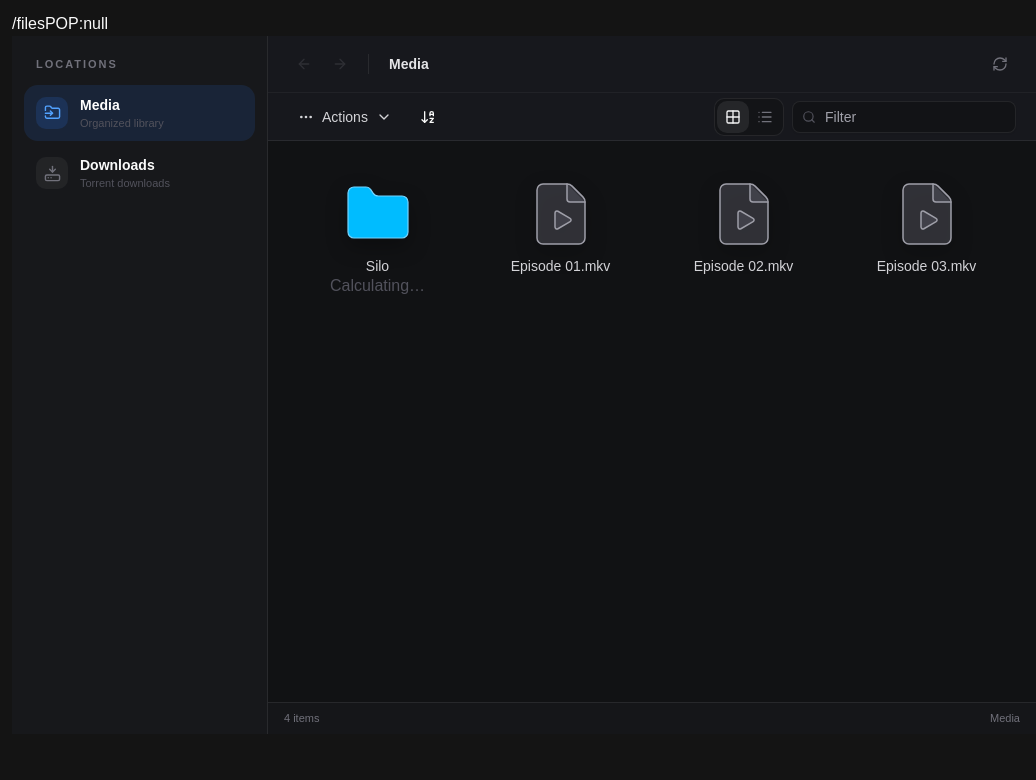
FileManager › pushes folder and root navigation into the browser URL
Double-click the button "Silo Calculating…".
double_click(378, 238)  # box [292,165,463,311]
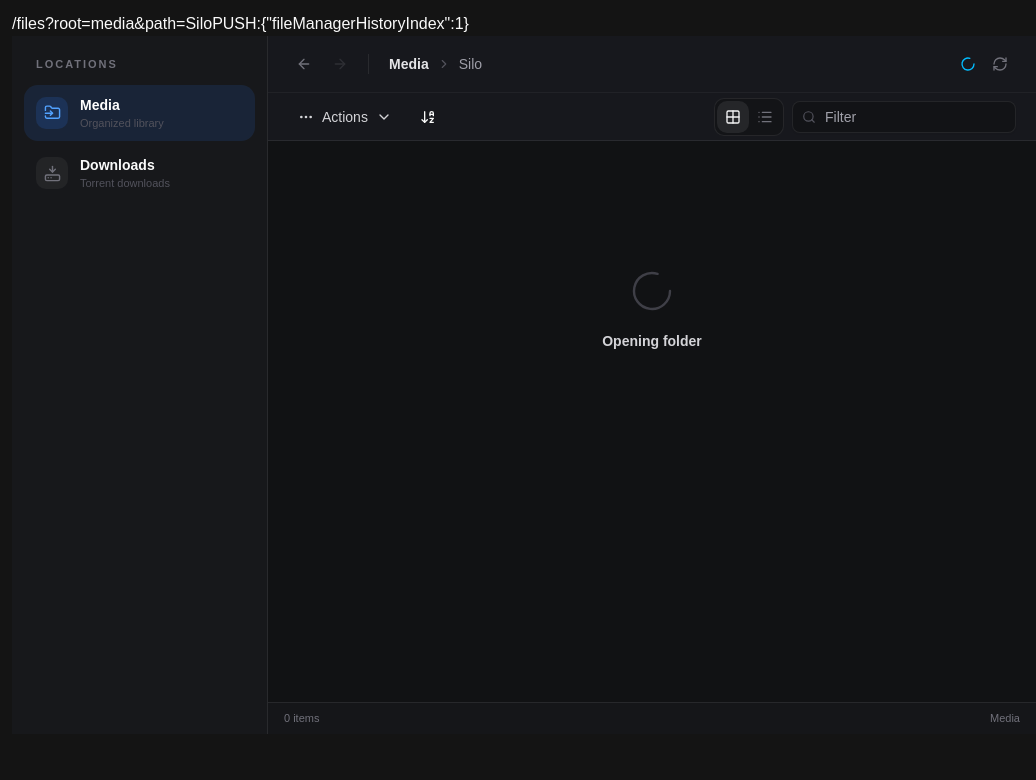
Expected: the text with test id "router-location" reads "/files?root=media&path=Silo", [12,15,212,32]
Click the button "Downloads Torrent downloads".
click(140, 173)  # box [24,145,255,202]
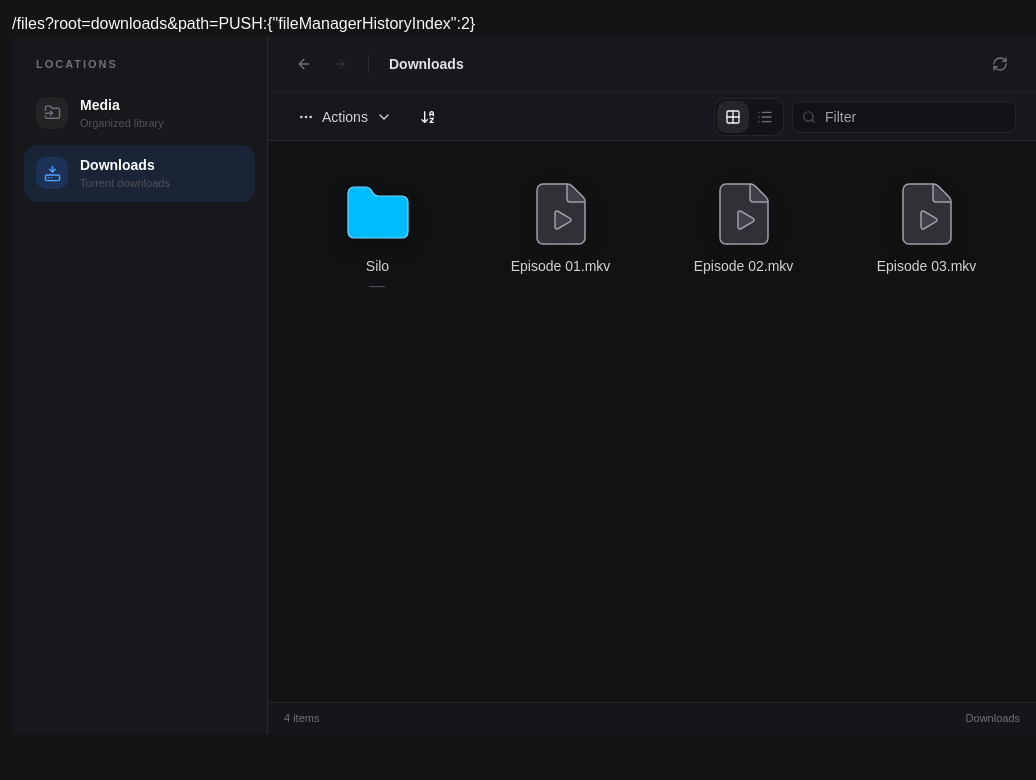
Expected: the text with test id "router-location" reads "/files?root=downloads&path=", [12,15,218,32]
